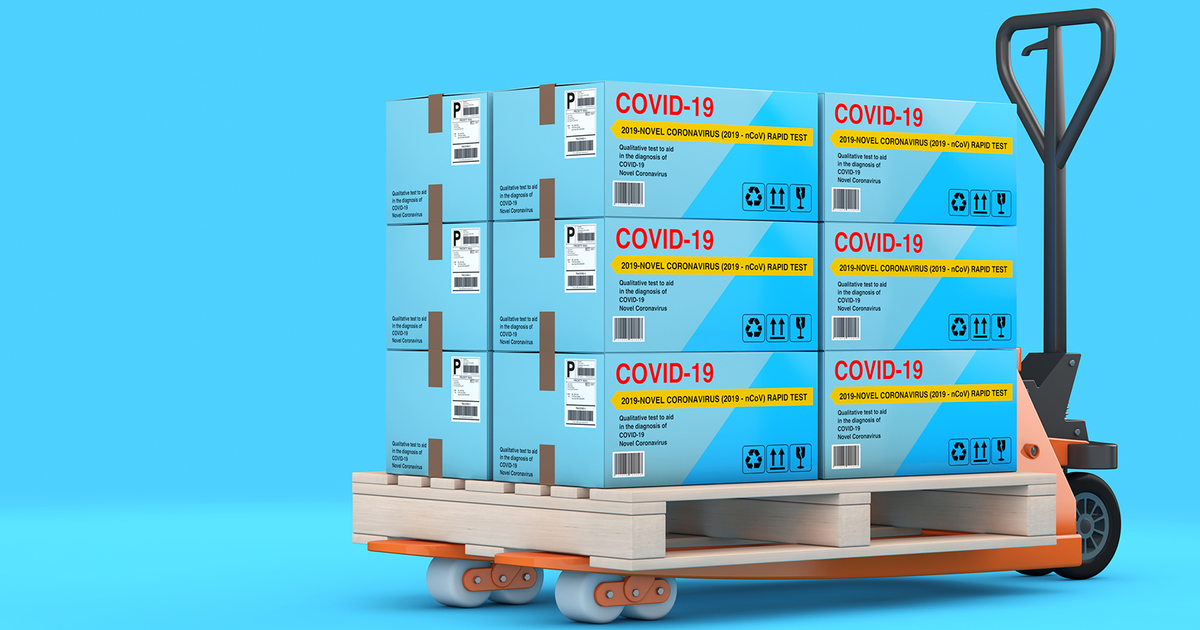box: (604, 83, 823, 220), (603, 221, 823, 352), (603, 352, 825, 480), (825, 94, 1022, 225), (823, 222, 1020, 347), (825, 352, 1018, 475), (487, 354, 608, 488), (490, 220, 605, 358), (489, 88, 606, 220), (378, 223, 494, 352), (381, 90, 491, 226), (377, 351, 487, 480)
box_label: (561, 88, 600, 163), (559, 355, 596, 430), (561, 222, 597, 297), (448, 356, 484, 426), (448, 99, 484, 166), (447, 227, 482, 295)
pallet: (348, 470, 1061, 574)
